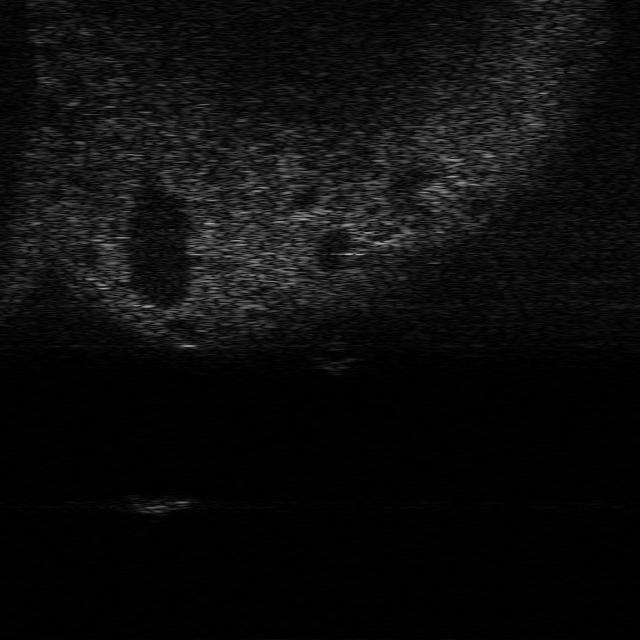ball: (311, 341, 360, 372)
cube: (126, 491, 190, 516)
